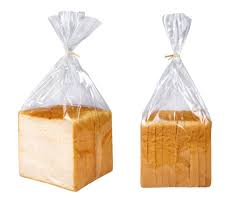bread: (20, 21, 113, 188), (141, 32, 224, 191)
